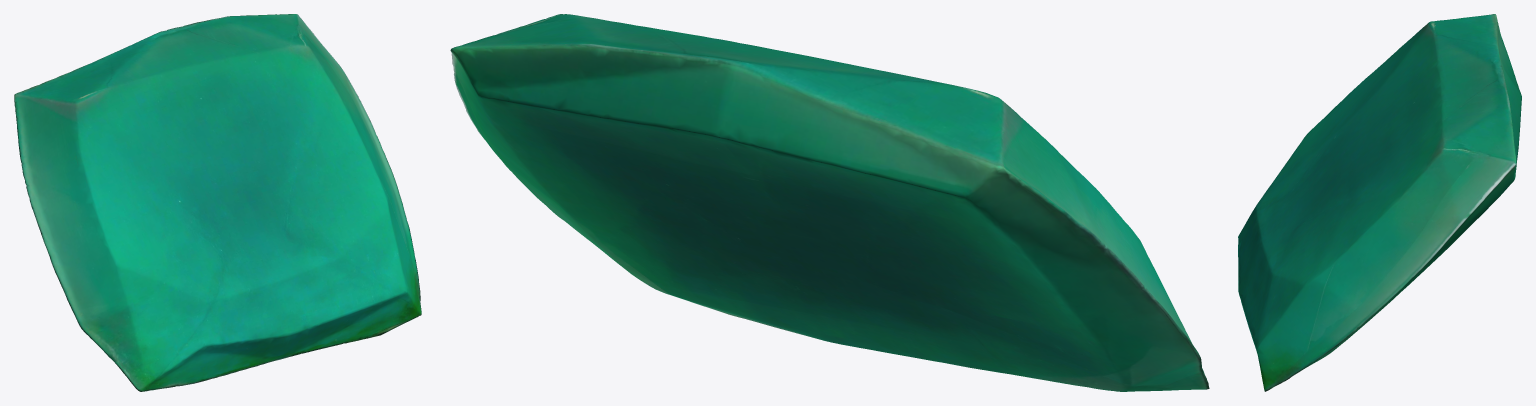
The picture shows the model from 3 angles, left to right: view 1: azimuth 30°, elevation 25°; view 2: azimuth 150°, elevation 25°; view 3: azimuth 270°, elevation 25°; orthographic projection. The views are drawn at different scales.
Parts seen in each view (by area): view 1: Mesh1.0; view 2: Mesh1.0; view 3: Mesh1.0.
Part boxes in pixels (bbox=[...]): Mesh1.0: bbox=[14, 14, 421, 391]; Mesh1.0: bbox=[450, 14, 1209, 391]; Mesh1.0: bbox=[1238, 14, 1521, 391].
Size of the model in its own units: 198 by 134 by 132.
1 material, 1 textured.
